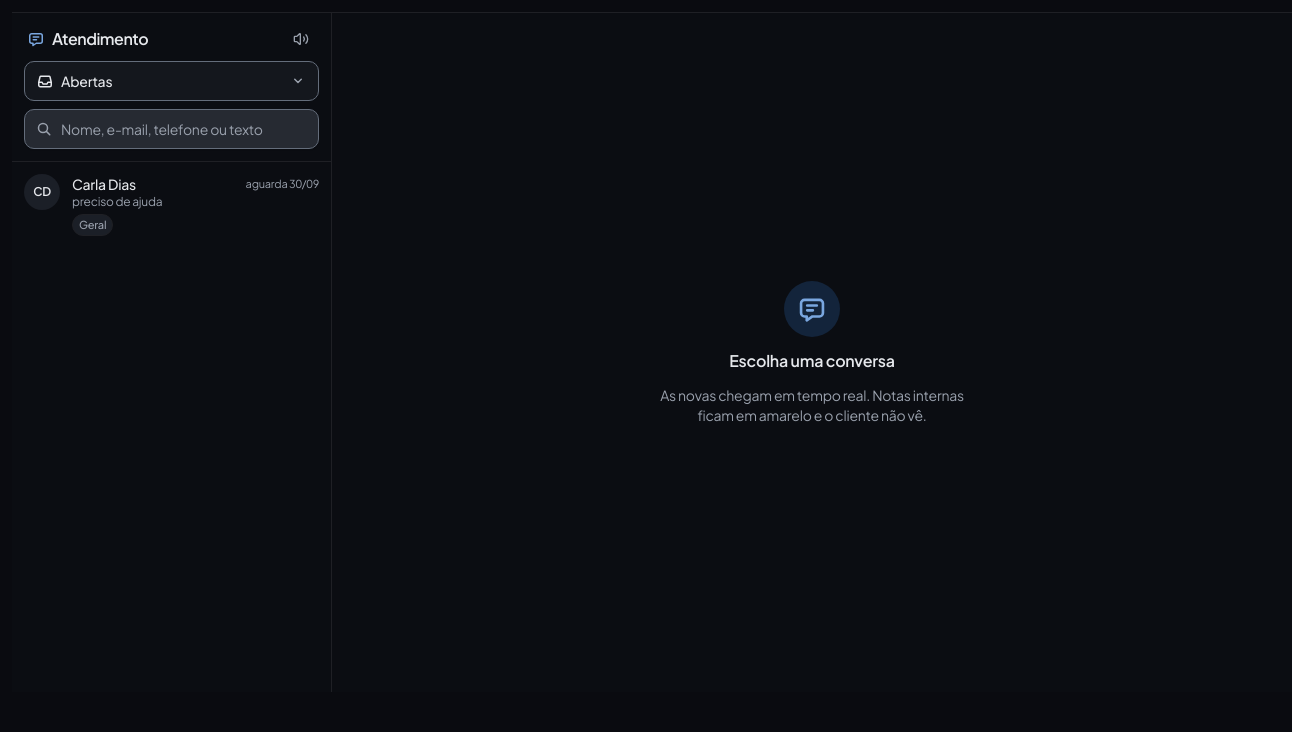
Scenario: chat: painel do cliente no Atendimento (Decisão 163) › ingressos, pedidos e plano vêm de chat_cliente_contexto, sem ler tickets, orders, producer_subscriptions nem profiles
Click the button "CD Carla Dias aguarda 30/09 preciso de ajuda Geral" at (42, 192), box [12,162,331,248]
(page scrolled)
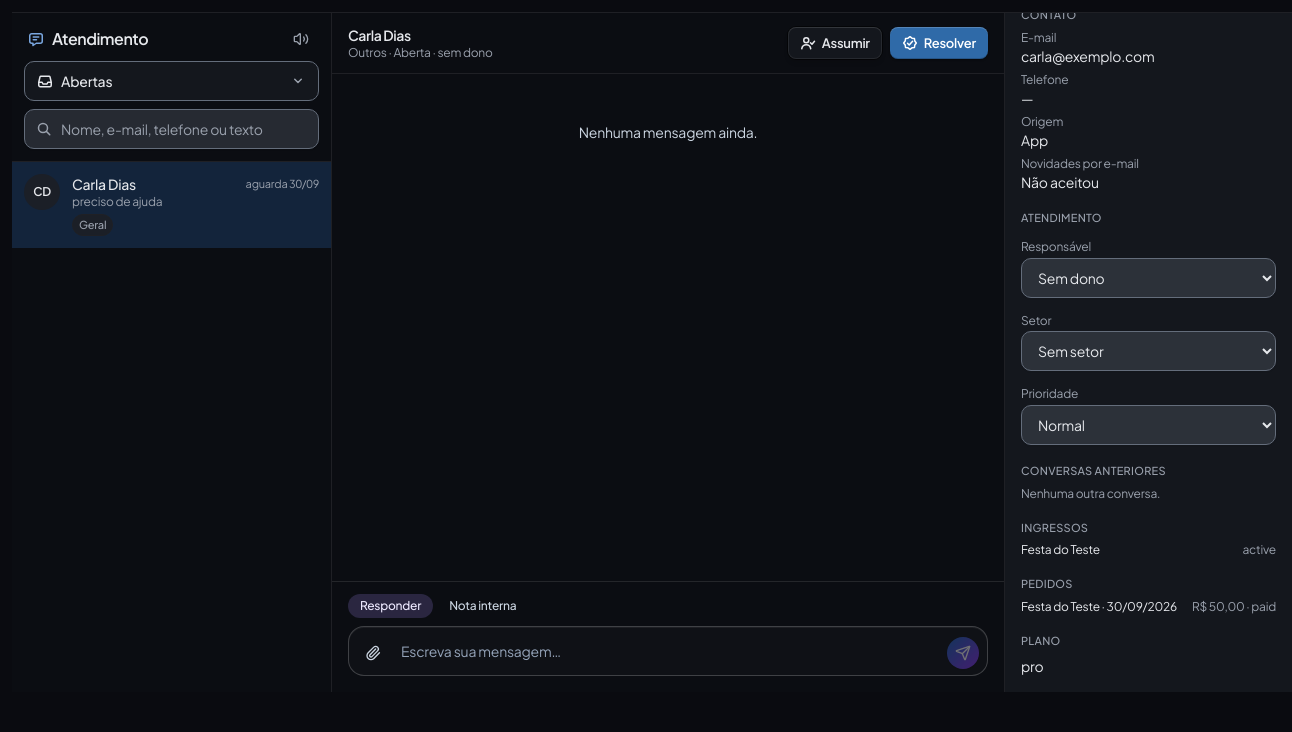
Expected: the text "Festa do Teste" is shown, [1021,542,1100,558]
Expected: the text "Festa do Teste · 30/09/2026" is shown, [1021,599,1177,615]
Expected: the text "pro" is shown, [1021,657,1044,675]
